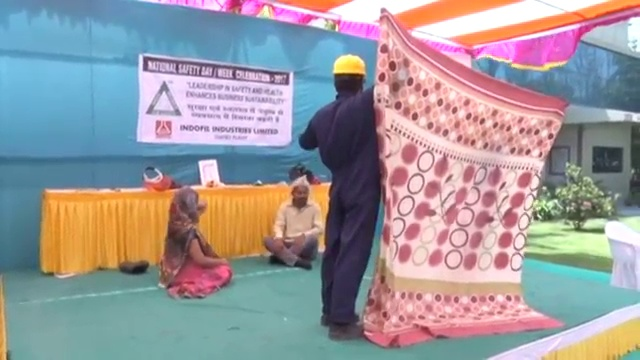helmet: (333, 53, 368, 76)
helmet_off: (291, 176, 311, 209), (172, 186, 200, 208)
helmet_on: (333, 53, 368, 97)
person: (299, 52, 376, 338), (160, 185, 230, 299), (263, 175, 325, 272)
